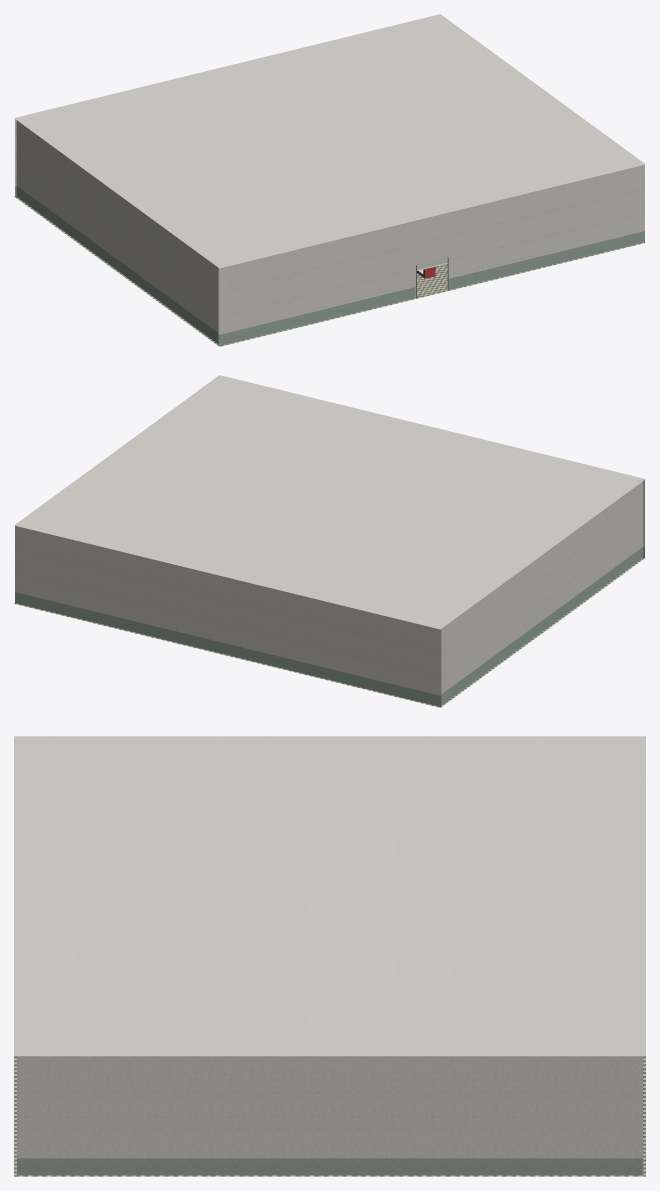
Rendered from aisles.glb.
3 renders of one model, top to bottom at view 1: azimuth 30°, elevation 25°; view 2: azimuth 150°, elevation 25°; view 3: azimuth 270°, elevation 25°, orthographic. The views are drawn at different scales.
Parts seen in each view (by area): view 1: Ceiling_Tile, Wall_High, Wall_Paint, Wall_Lower, Floor_Tile; view 2: Ceiling_Tile, Wall_High, Wall_Paint, Wall_Lower, Floor_Tile; view 3: Ceiling_Tile, Wall_High, Wall_Paint, Wall_Lower, Floor_Tile.
Boxes of the visible parts, x1,y1,x2,y2 form: Ceiling_Tile: (14, 14, 645, 268); Wall_High: (15, 119, 644, 312); Wall_Paint: (15, 163, 644, 334); Wall_Lower: (15, 185, 644, 345); Floor_Tile: (14, 196, 645, 346); Ceiling_Tile: (14, 375, 645, 629); Wall_High: (15, 480, 644, 673); Wall_Paint: (15, 524, 644, 695); Wall_Lower: (15, 546, 644, 706); Floor_Tile: (14, 557, 645, 707); Ceiling_Tile: (14, 736, 645, 1056); Wall_High: (17, 1056, 642, 1124); Wall_Paint: (17, 1124, 642, 1158); Wall_Lower: (17, 1158, 642, 1175); Floor_Tile: (14, 1056, 645, 1176).
Bounding box in the file's own units: 48.4 × 8.5 × 40.4.
Materials: 33 (13 with a texture image).
